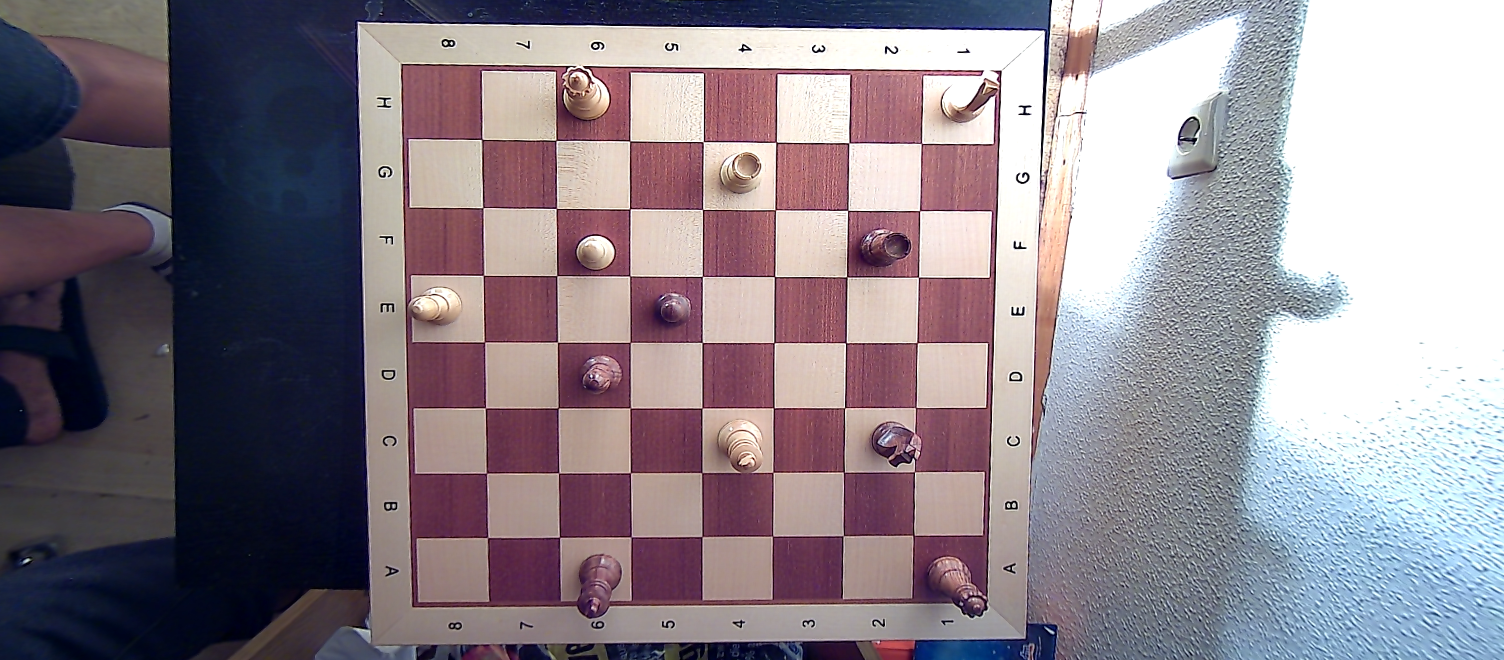black-bishop: (574, 352, 623, 396)
black-king: (569, 549, 626, 618)
black-knight: (865, 416, 925, 469)
black-pawn: (650, 290, 691, 326)
black-queen: (928, 556, 988, 619)
black-rook: (858, 223, 912, 268)
white-bishop: (404, 282, 463, 330)
white-king: (714, 415, 766, 475)
white-knight: (937, 68, 999, 128)
white-pawn: (573, 231, 617, 274)
white-queen: (558, 66, 611, 120)
white-rook: (715, 147, 766, 199)
